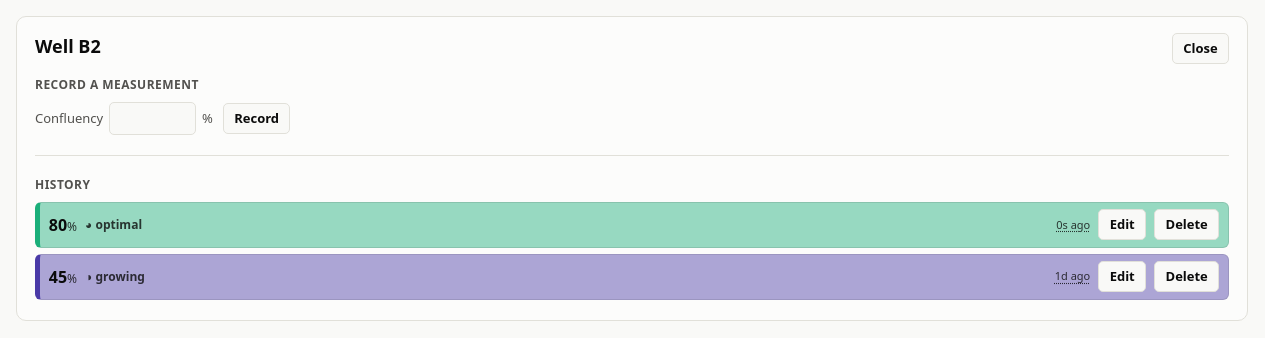
Test: WellPanel — recording a measurement › clears the field after a successful record
Expected: the text "80" is shown, top-left (49, 214), bottom-right (67, 236)
In the number field labelled "Confluency": x=153, y=119 top-left (109, 102), bottom-right (196, 135), type "65"
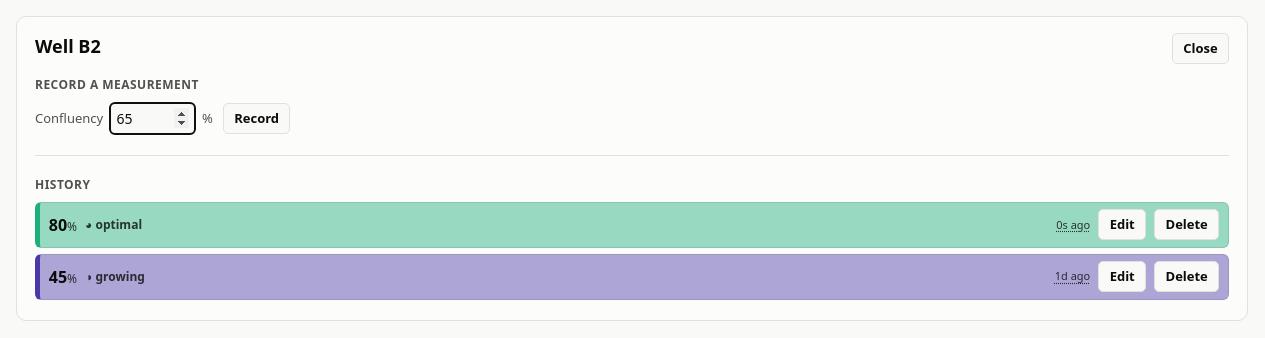
Click the button "Record": x=257, y=119 top-left (223, 103), bottom-right (290, 134)
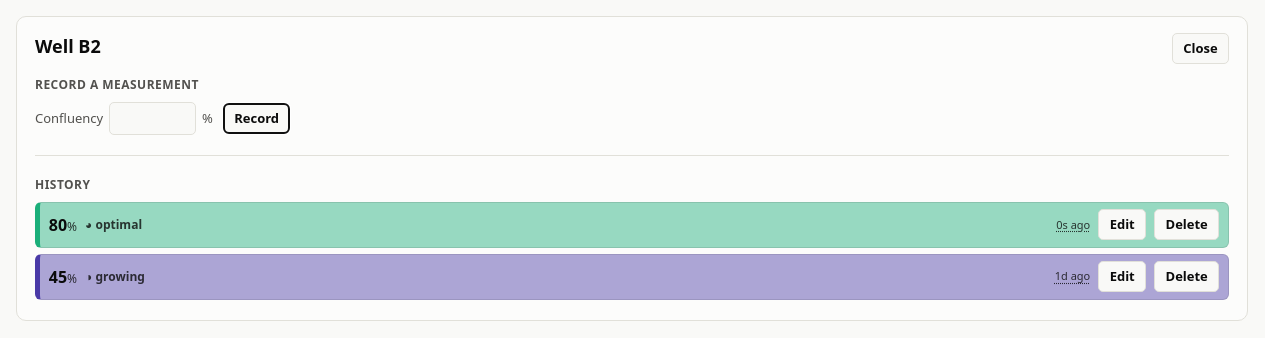
Now the number field labelled "Confluency" is not empty, box top-left (109, 102), bottom-right (196, 135)
